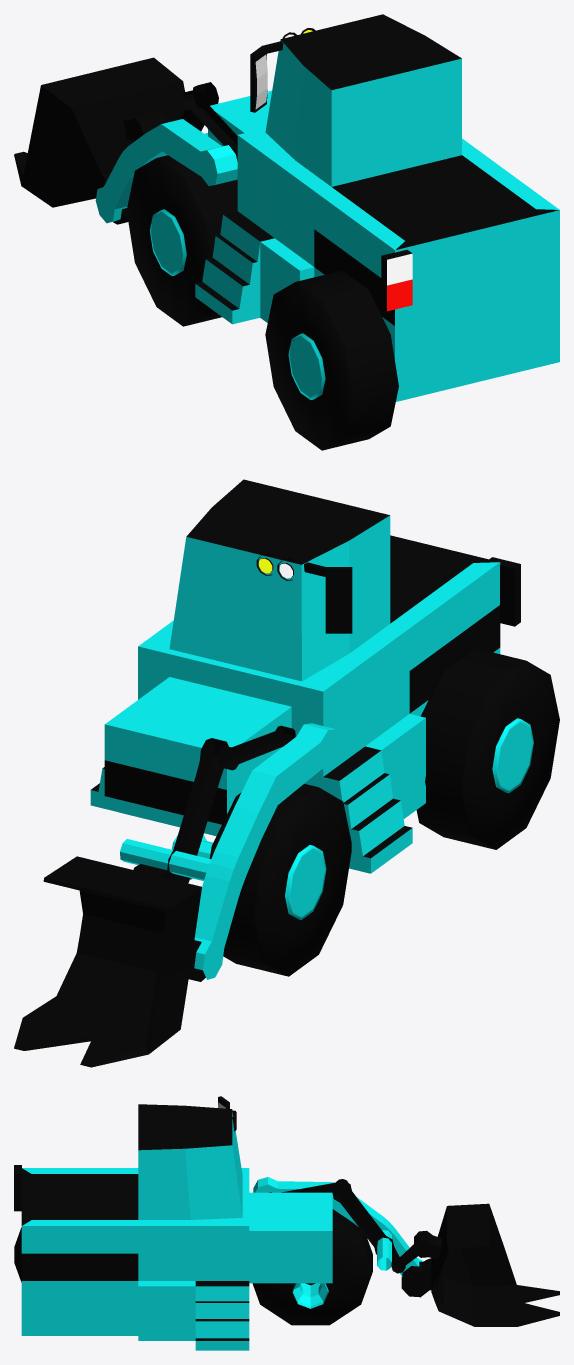
The model's file is dozer.glb.
3 views of the same model, one above another, from view 1: azimuth 30°, elevation 25°; view 2: azimuth 150°, elevation 25°; view 3: azimuth 270°, elevation 25° (orthographic). The views are drawn at different scales.
Visible parts, largest first — view 1: Cube, Wheel.001, Claw, Wheel, Hand, Piston, Cube.001, Cube.002; view 2: Cube, Claw, Wheel.001, Wheel, Hand, Piston, Cube.002, Cube.001; view 3: Cube, Claw, Wheel, Hand, Piston, Chasis, Cube.001.
Part boxes in pixels (left/top/right/bottom): Cube: left=195, top=14, right=559, bottom=401; Wheel.001: left=265, top=270, right=398, bottom=450; Claw: left=14, top=57, right=185, bottom=224; Wheel: left=126, top=155, right=237, bottom=326; Hand: left=95, top=119, right=237, bottom=223; Piston: left=180, top=82, right=237, bottom=161; Cube.001: left=381, top=249, right=412, bottom=311; Cube.002: left=250, top=41, right=283, bottom=112; Cube: left=90, top=479, right=500, bottom=873; Claw: left=14, top=856, right=205, bottom=1067; Wheel.001: left=416, top=647, right=559, bottom=849; Wheel: left=209, top=783, right=351, bottom=976; Hand: left=120, top=723, right=339, bottom=979; Piston: left=167, top=725, right=295, bottom=883; Cube.002: left=304, top=562, right=352, bottom=633; Cube.001: left=489, top=557, right=520, bottom=626; Cube: left=21, top=1104, right=332, bottom=1350; Claw: left=401, top=1203, right=559, bottom=1326; Wheel: left=252, top=1209, right=372, bottom=1325; Hand: left=253, top=1177, right=423, bottom=1276; Piston: left=269, top=1179, right=417, bottom=1273; Chasis: left=292, top=1283, right=328, bottom=1308; Cube.001: left=14, top=1165, right=21, bottom=1211.
Size of the model in its own units: 4.53 by 5.12 by 11.46.
